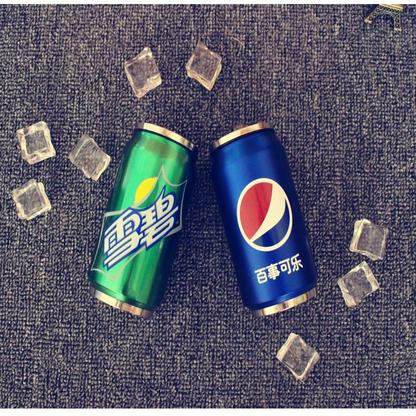can: (206, 120, 319, 318), (90, 120, 199, 321)
